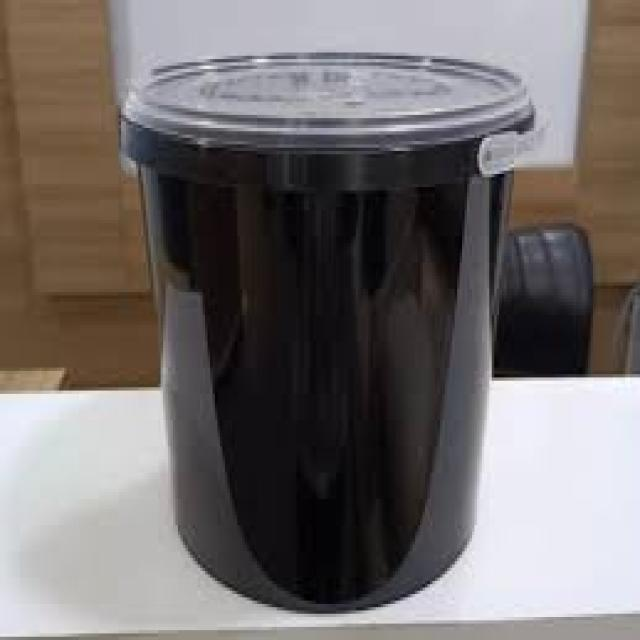disposable: (121, 36, 554, 618)
